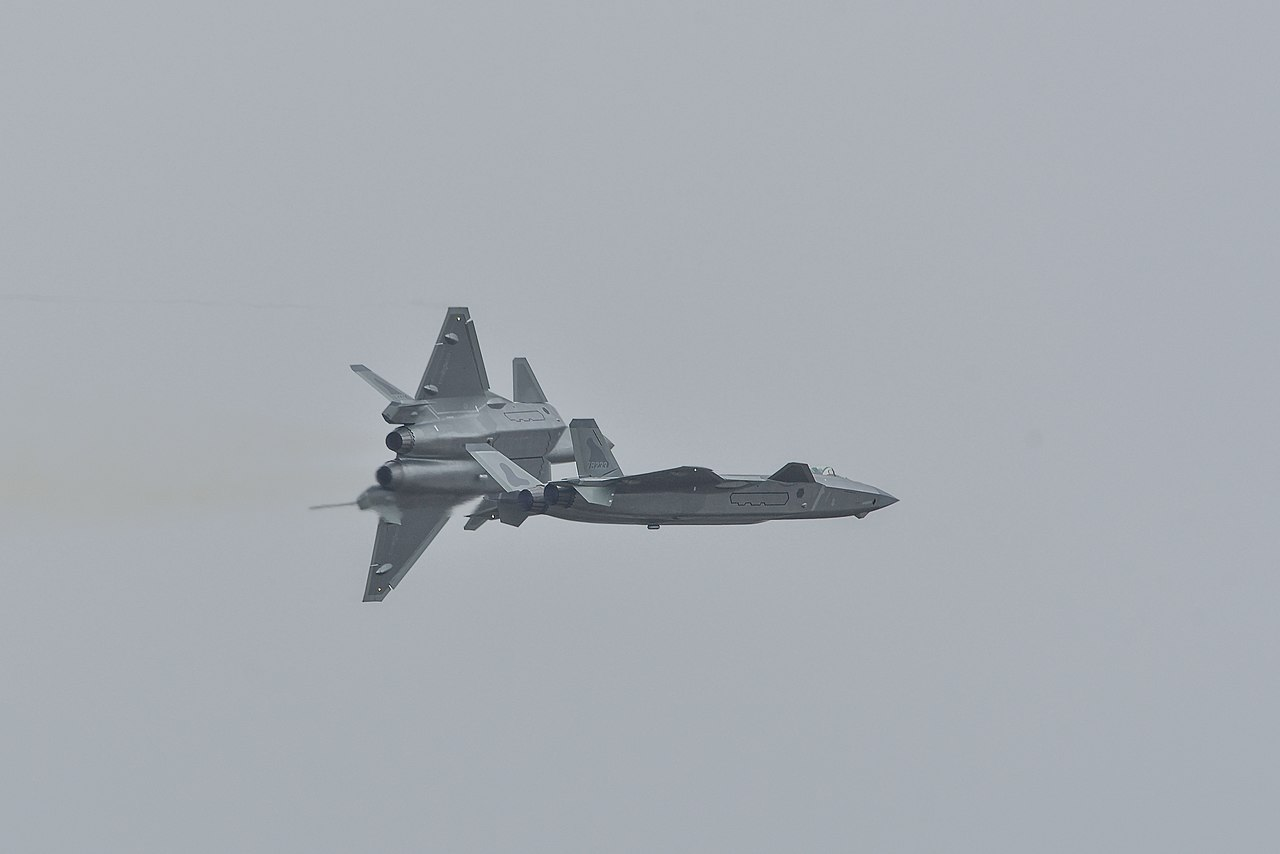J20: (307, 306, 616, 603), (463, 418, 901, 530)
